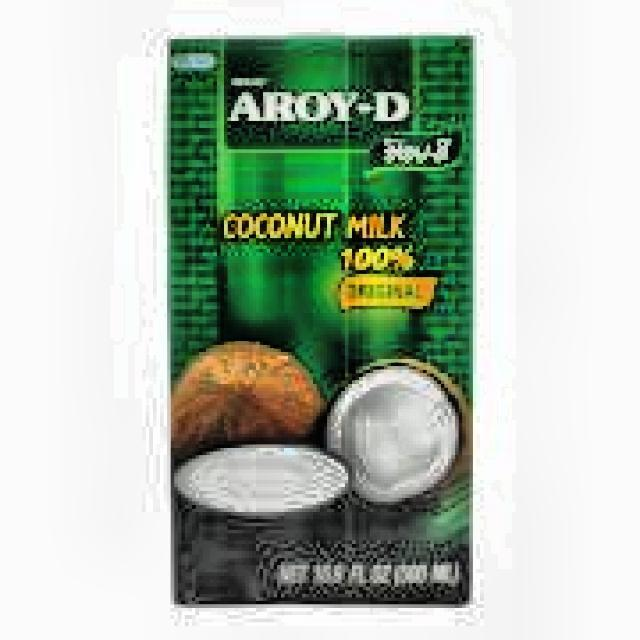cardboard: (163, 32, 473, 604)
